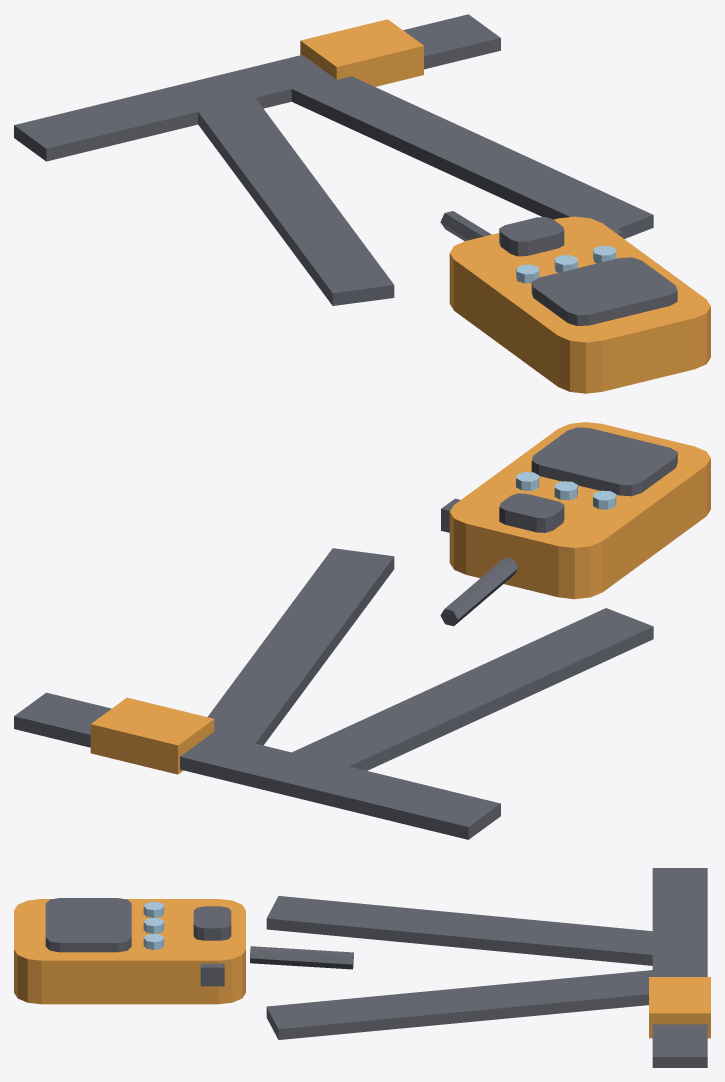
File: backcountry-snowboarding-and-avalanche-safety-avalanch-1582b601__18930.glb
3 renders of one model, top to bottom at view 1: azimuth 30°, elevation 25°; view 2: azimuth 150°, elevation 25°; view 3: azimuth 270°, elevation 25°, orthographic. The views are drawn at different scales.
Parts seen in each view (by area): view 1: avalanche-transceiver; view 2: avalanche-transceiver; view 3: avalanche-transceiver.
Boxes of the visible parts, <box> form: avalanche-transceiver: <box>14,14,710,393</box>; avalanche-transceiver: <box>14,422,710,839</box>; avalanche-transceiver: <box>14,868,710,1067</box>.
Bounding box in the file's own units: 0.26 × 0.038 × 0.4055.
